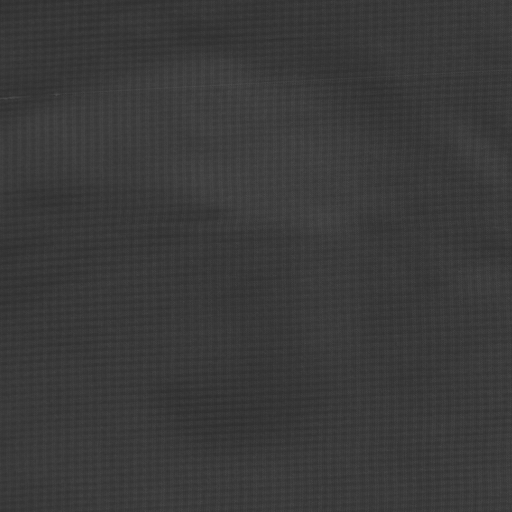defect: (1, 66, 512, 108)
